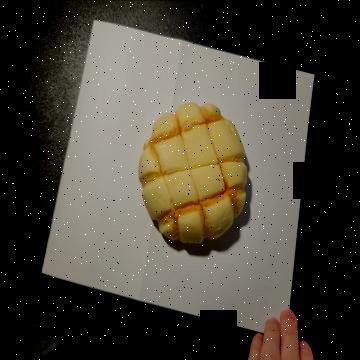melon_bread: (139, 103, 250, 250)
